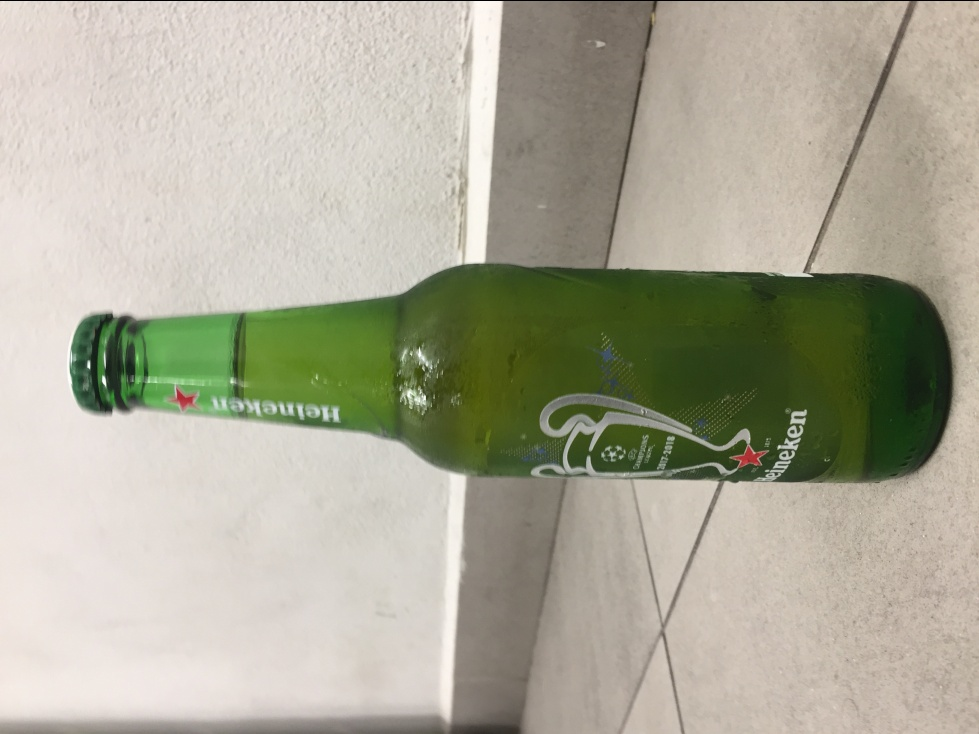heineken: (65, 260, 959, 484)
